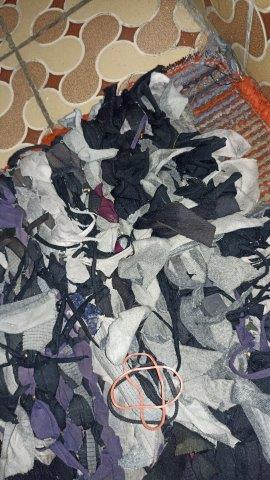karet: (108, 352, 184, 430)
